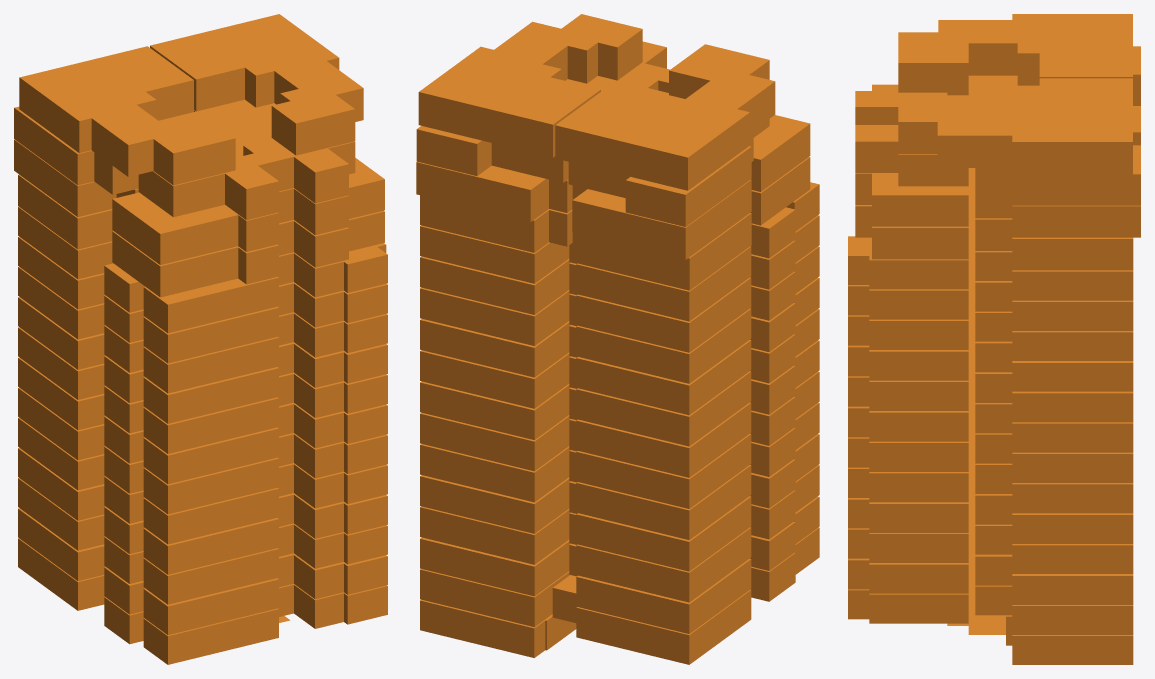
File: EINSTEIN_Main_Building_FBX.fbx
3 renders of one model, left to right at view 1: azimuth 30°, elevation 25°; view 2: azimuth 150°, elevation 25°; view 3: azimuth 270°, elevation 25°, orthographic. The views are drawn at different scales.
Visible parts, largest first — view 1: einstein01_16_2, einstein01_16_1, einstein01_14_2, einstein01_15_2, einstein01_13_2, einstein01_12_3, einstein01_2_3, einstein01_9_3, einstein01_4_3, einstein01_7_3, einstein01_8_3, einstein01_11_3 (+33 smaller); view 2: einstein01_16_2, einstein01_16_1, einstein01_14_3, einstein01_1_4, einstein01_15_3, einstein01_14_1, einstein01_2_4, einstein01_9_4, einstein01_4_4, einstein01_7_4, einstein01_8_4, einstein01_11_4 (+37 smaller); view 3: einstein01_16_1, einstein01_16_2, einstein01_15_2, einstein01_15_1, einstein01_13_1, einstein01_14_1, einstein01_8_1, einstein01_14_2, einstein01_2_1, einstein01_9_1, einstein01_4_1, einstein01_7_1 (+24 smaller).
Part boxes in pixels (x1,y1,x2,y2): einstein01_16_2: (19, 46, 235, 185); einstein01_16_1: (150, 14, 363, 155); einstein01_14_2: (112, 158, 384, 264); einstein01_15_2: (138, 138, 355, 220); einstein01_13_2: (112, 210, 384, 297); einstein01_12_3: (104, 263, 278, 333); einstein01_2_3: (104, 567, 278, 634); einstein01_9_3: (104, 355, 278, 423); einstein01_4_3: (104, 506, 278, 574); einstein01_7_3: (104, 416, 278, 484); einstein01_8_3: (104, 386, 278, 453); einstein01_11_3: (104, 295, 278, 363); einstein01_16_2: (555, 44, 775, 190); einstein01_16_1: (418, 14, 642, 157); einstein01_14_3: (572, 179, 751, 259); einstein01_1_4: (552, 575, 751, 664); einstein01_15_3: (568, 130, 753, 226); einstein01_14_1: (416, 161, 572, 222); einstein01_2_4: (569, 543, 751, 633); einstein01_9_4: (569, 325, 751, 415); einstein01_4_4: (569, 481, 751, 571); einstein01_7_4: (569, 387, 751, 477); einstein01_8_4: (569, 356, 751, 446); einstein01_11_4: (569, 262, 751, 352); einstein01_16_1: (898, 78, 1132, 174); einstein01_16_2: (898, 14, 1132, 95); einstein01_15_2: (855, 91, 968, 186); einstein01_15_1: (975, 145, 1140, 205); einstein01_13_1: (975, 218, 1133, 270); einstein01_14_1: (975, 197, 1140, 237); einstein01_8_1: (975, 372, 1133, 422); einstein01_14_2: (855, 84, 968, 226); einstein01_2_1: (975, 554, 1133, 604); einstein01_9_1: (975, 341, 1133, 391); einstein01_4_1: (975, 494, 1133, 543); einstein01_7_1: (975, 403, 1133, 452).
Size of the model in its own units: 28.6 by 54.28 by 27.49.
